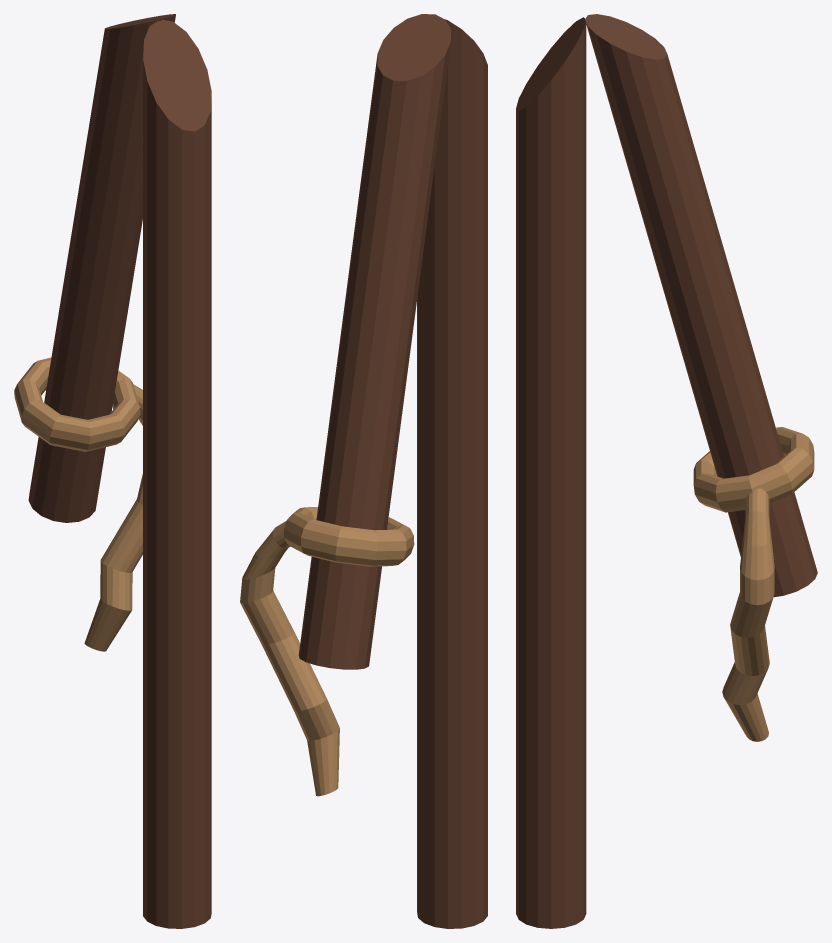
The model's file is barriere mine 3 casser.fbx.
3 renders of one model, left to right at view 1: azimuth 30°, elevation 25°; view 2: azimuth 150°, elevation 25°; view 3: azimuth 270°, elevation 25°, orthographic. The views are drawn at different scales.
Parts seen in each view (by area): view 1: baton casser 1, baton casser 2, bout corde, corde; view 2: baton casser 1, baton casser 2, corde, bout corde; view 3: baton casser 1, baton casser 2, corde, bout corde.
Part boxes in pixels (bbox=[...]): baton casser 1: bbox=[143, 20, 211, 928]; baton casser 2: bbox=[28, 14, 175, 522]; bout corde: bbox=[14, 357, 140, 451]; corde: bbox=[84, 384, 142, 651]; baton casser 1: bbox=[417, 19, 487, 928]; baton casser 2: bbox=[298, 14, 450, 669]; corde: bbox=[240, 521, 339, 796]; bout corde: bbox=[284, 507, 414, 566]; baton casser 1: bbox=[516, 17, 586, 928]; baton casser 2: bbox=[585, 14, 817, 597]; corde: bbox=[722, 488, 774, 741]; bout corde: bbox=[693, 427, 814, 512].
Size of the model in its own units: 49.61 by 266 by 81.3.
